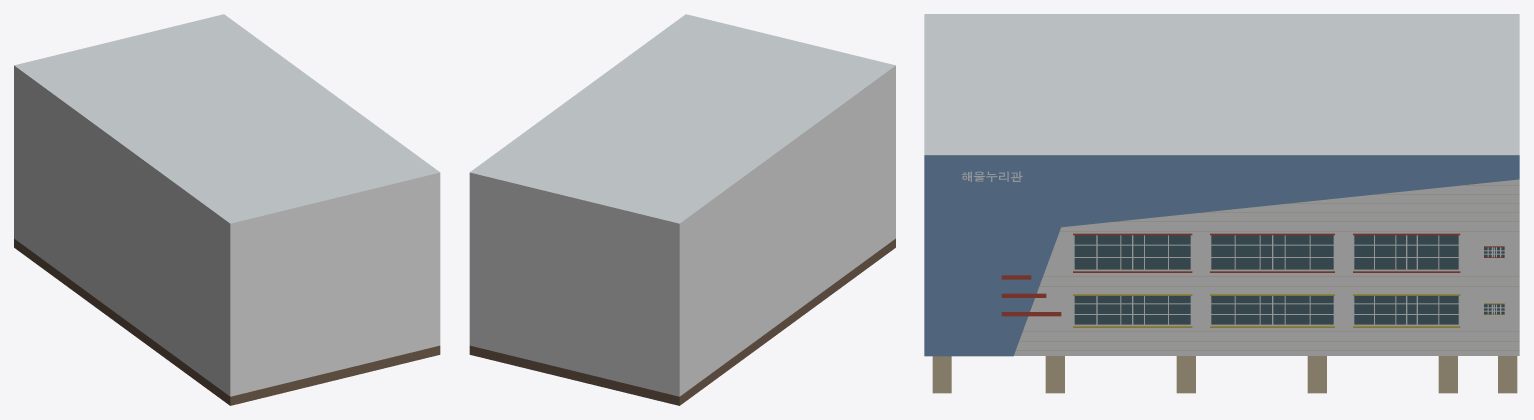
3 views of the same model, side by side, from view 1: azimuth 30°, elevation 25°; view 2: azimuth 150°, elevation 25°; view 3: azimuth 270°, elevation 25° (orthographic). The views are drawn at different scales.
Visible parts, largest first — view 1: hall3__wall-plaster, hall3__roof-metal, hall3__base-stone; view 2: hall3__wall-plaster, hall3__roof-metal, hall3__base-stone; view 3: hall3__roof-metal, hall3__wall-plaster, hall3__hall-blue-panels, hall3__glass, hall3__trim-concrete, hall3__hall-white-frames, hall3__hall-red-trim, hall-name-sign, hall3__hall-yellow-trim.
Boxes of the visible parts, <box> form: hall3__wall-plaster: <box>14,65,440,396</box>; hall3__roof-metal: <box>14,14,439,223</box>; hall3__base-stone: <box>14,238,440,405</box>; hall3__wall-plaster: <box>469,65,895,396</box>; hall3__roof-metal: <box>470,14,895,223</box>; hall3__base-stone: <box>469,238,895,405</box>; hall3__roof-metal: <box>924,14,1519,154</box>; hall3__wall-plaster: <box>924,155,1519,355</box>; hall3__hall-blue-panels: <box>924,155,1519,356</box>; hall3__glass: <box>1074,235,1504,324</box>; hall3__trim-concrete: <box>932,185,1519,393</box>; hall3__hall-white-frames: <box>1073,233,1504,326</box>; hall3__hall-red-trim: <box>1001,233,1504,316</box>; hall-name-sign: <box>958,169,1036,187</box>; hall3__hall-yellow-trim: <box>1073,294,1504,327</box>.
Size of the model in its own units: 21.59 by 17.8 by 38.28.
Materials: 10 (1 with a texture image).
